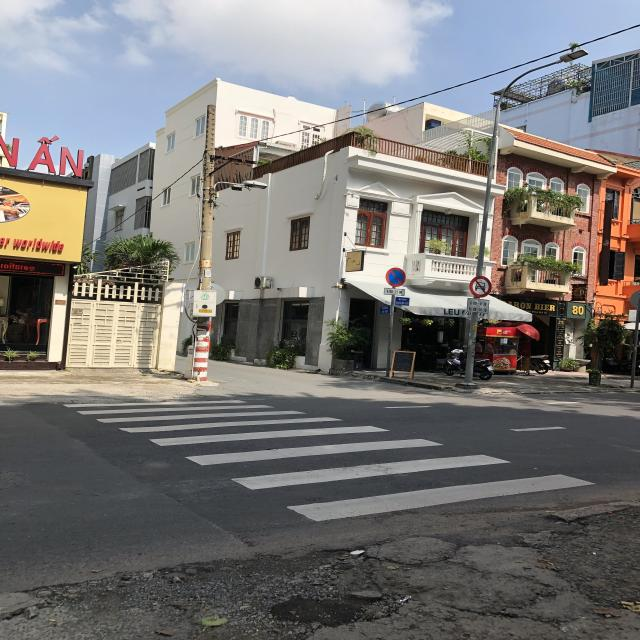Bien bao cam do xe: (382, 264, 410, 288)
Bien bao cam xe oto: (465, 273, 497, 295)
